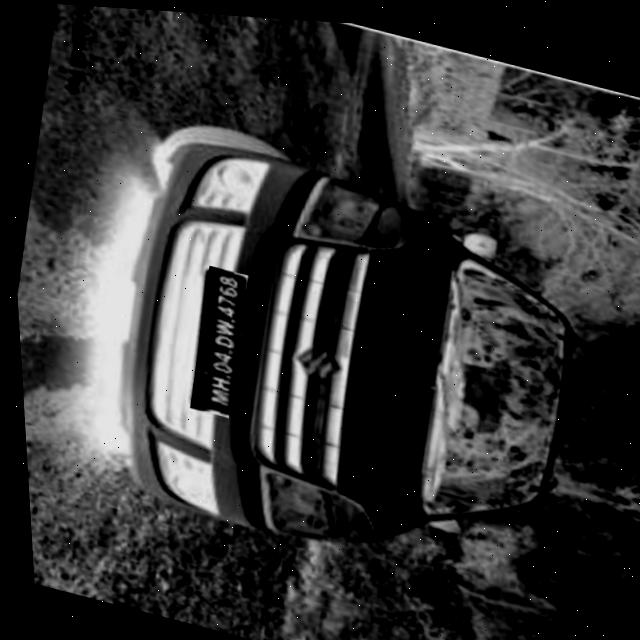Non_registered: (177, 261, 250, 417)
